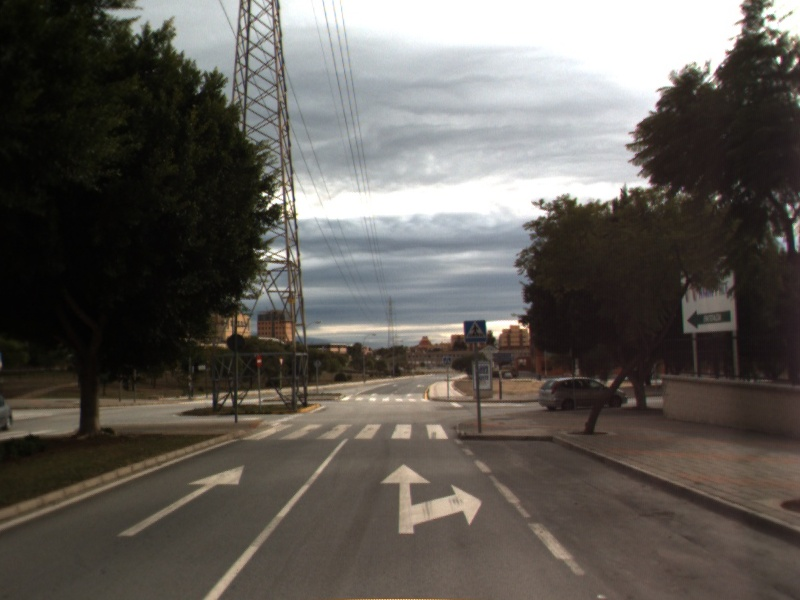STRAIGHT: (115, 463, 247, 539)
STRAIGHT_RIGHT: (378, 461, 484, 536)
